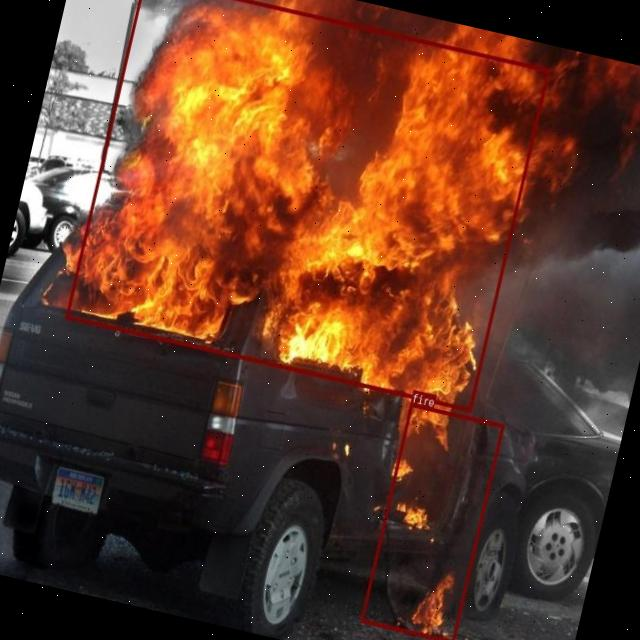fire: (65, 0, 549, 410), (359, 402, 503, 640)
